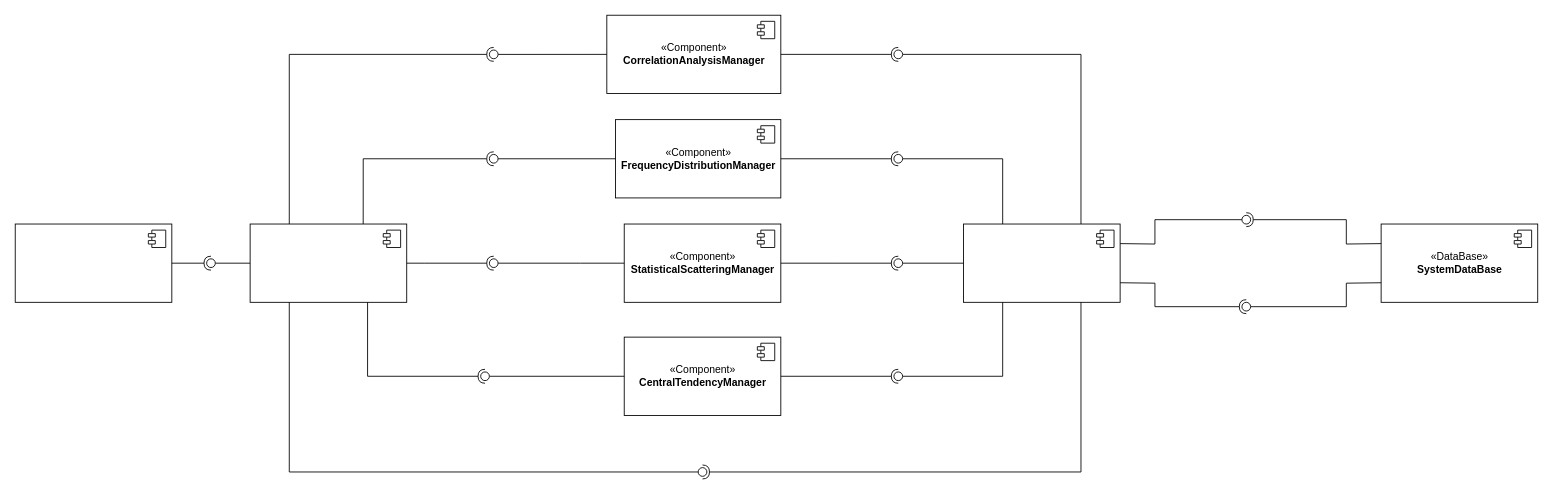
This 1553x494 diagram has some shape labels left out. Each missing label, with the box of its shape:
«Component» FileManager: (963, 223, 1120, 302)
«Component» UserDataManager: (249, 223, 407, 302)
«Interface» UserInterfaceManager: (14, 223, 172, 302)
